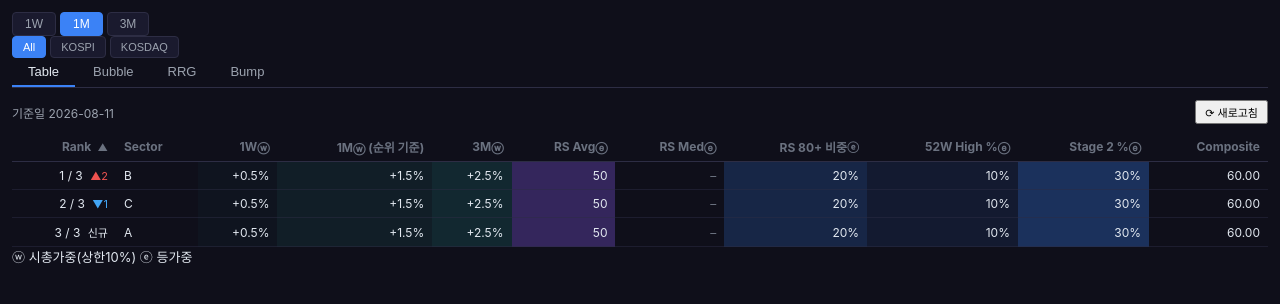
Scenario: AC-SDU-011 — 안내 문구 표시 라벨 › 비-rank 정렬 시 안내 문구가 원시 상태값(기간 1m)이 아니라 표시 라벨(기간 1M · 시장 All)을 쓴다
The width and height of the screenshot is (1280, 304).
Expected: the text "A" is shown, top-left (116, 218), bottom-right (198, 246)
Note: 비-rank 정렬 유도 — thead 의 1W 열 헤더 클릭 (기간 토글 버튼이 아님)
Click the text "1W": [248, 146] box top-left (240, 139), bottom-right (257, 154)
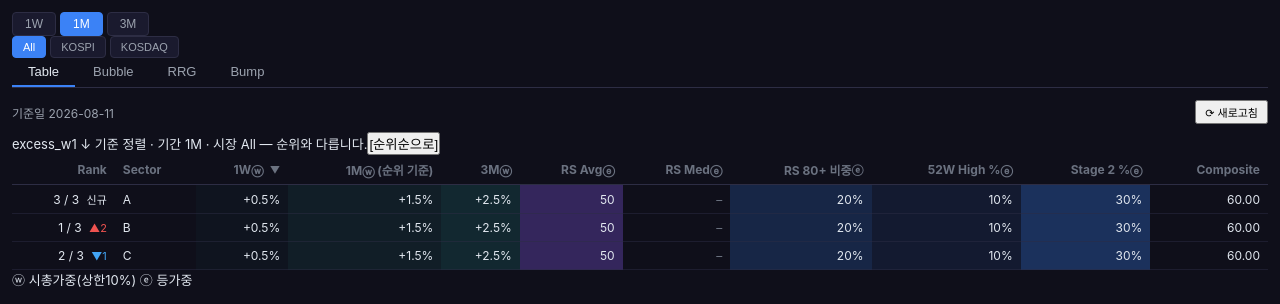
Expected: the element with test id "sort-notice" does not show "기간 1m"
Expected: the element with test id "sort-notice" shows "기간 1M", top-left (12, 132), bottom-right (440, 155)
Expected: the element with test id "sort-notice" shows "시장 All", top-left (12, 132), bottom-right (440, 155)
